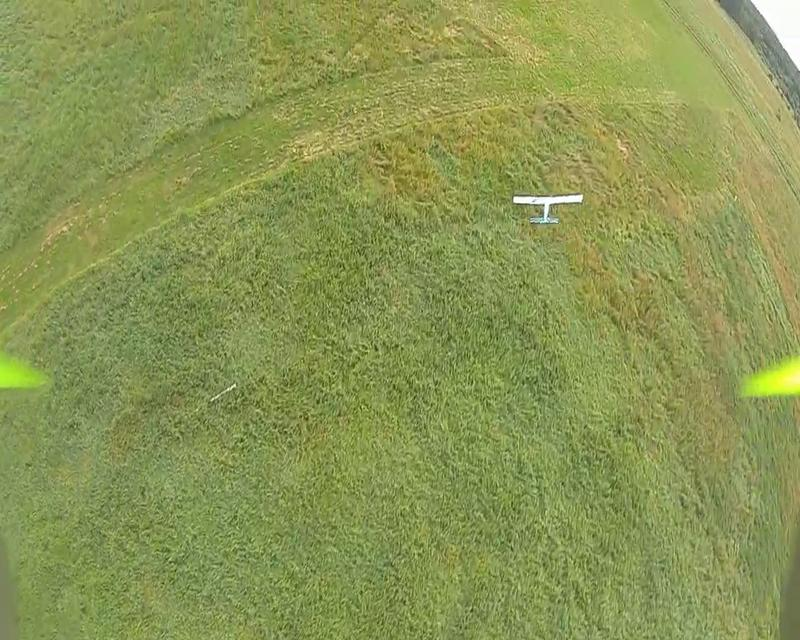UAV: (511, 191, 584, 225)
